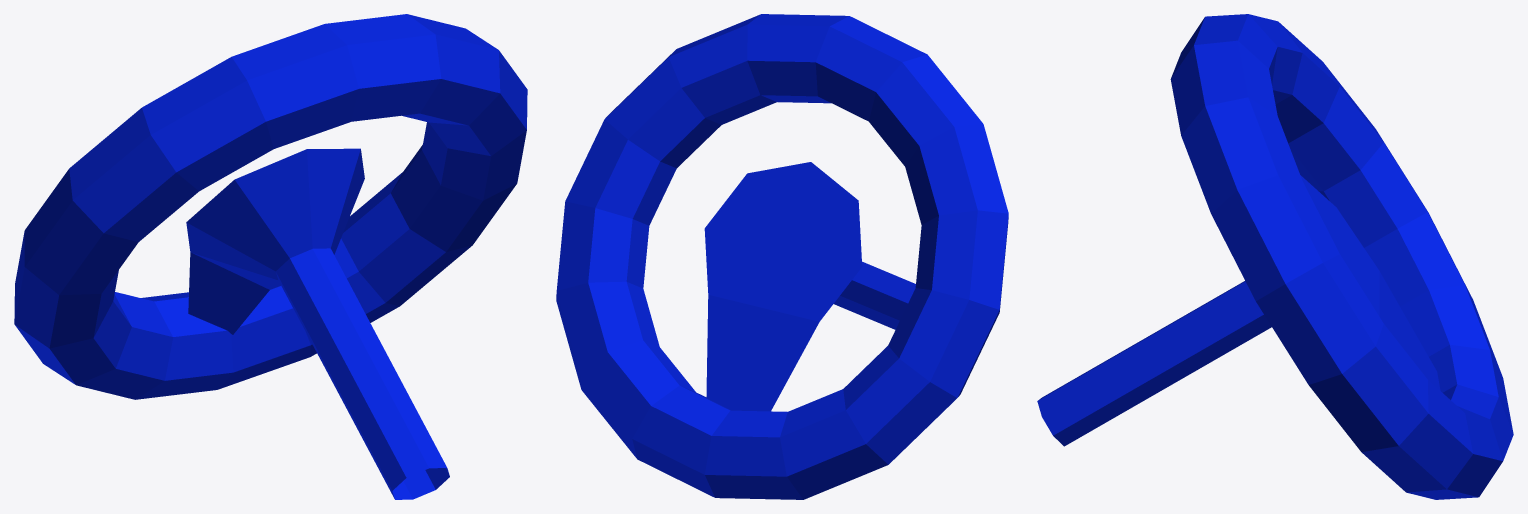
Rendered from Handle.fbx.
3 renders of one model, left to right at view 1: azimuth 30°, elevation 25°; view 2: azimuth 150°, elevation 25°; view 3: azimuth 270°, elevation 25°, orthographic. The views are drawn at different scales.
Visible parts, largest first — view 1: Handle; view 2: Handle; view 3: Handle.
Part boxes in pixels (x1,y1,x2,y2): Handle: [14, 14, 527, 499]; Handle: [556, 14, 1008, 499]; Handle: [1037, 14, 1513, 499].
Bounding box in the file's own units: 0.4337 × 0.3742 × 0.3734.
